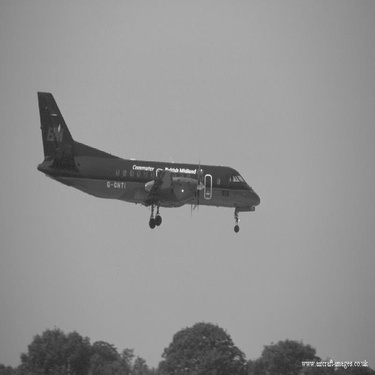airplane: (21, 79, 270, 238)
